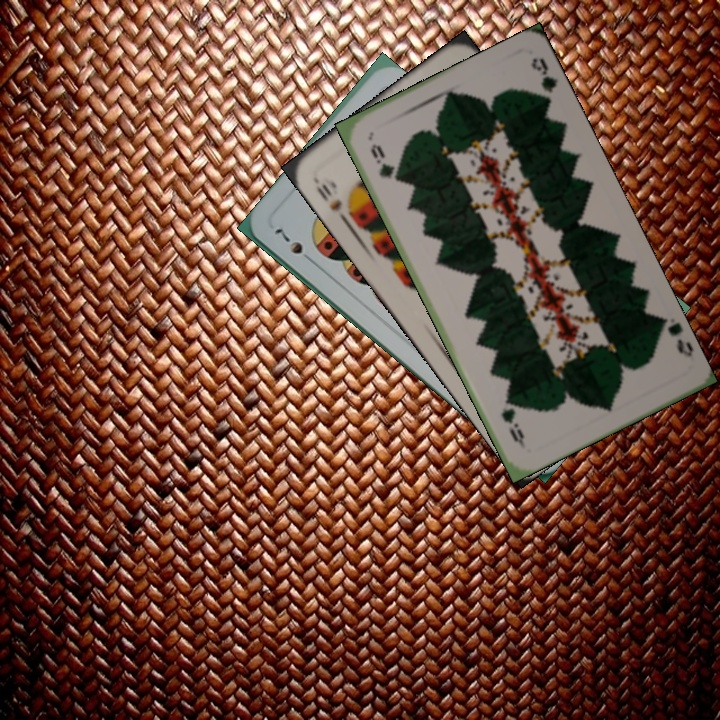G9: (654, 313, 695, 360), (366, 139, 400, 184)
S10: (312, 180, 350, 225)
S7: (271, 224, 318, 266)
